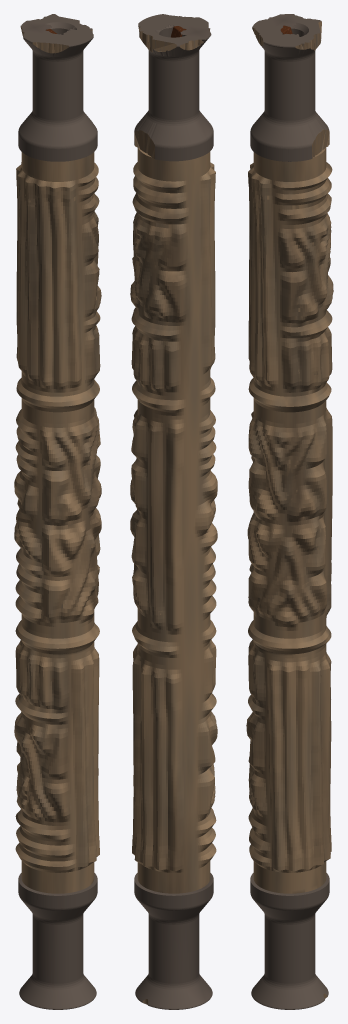
The model's file is Koristelupuu.fbx.
The picture shows the model from 3 angles, left to right: view 1: azimuth 30°, elevation 25°; view 2: azimuth 210°, elevation 25°; view 3: azimuth 330°, elevation 25°; orthographic projection.
Visible parts, largest first — view 1: Cube.001; view 2: Cube.001; view 3: Cube.001.
Part boxes in pixels (x1=…): Cube.001: x1=14, y1=14, x2=101, y2=1009; Cube.001: x1=130, y1=14, x2=217, y2=1009; Cube.001: x1=246, y1=14, x2=333, y2=1009.
Bounding box in the file's own units: 135 × 1651 × 131.
Materials: 4 (4 with a texture image).
